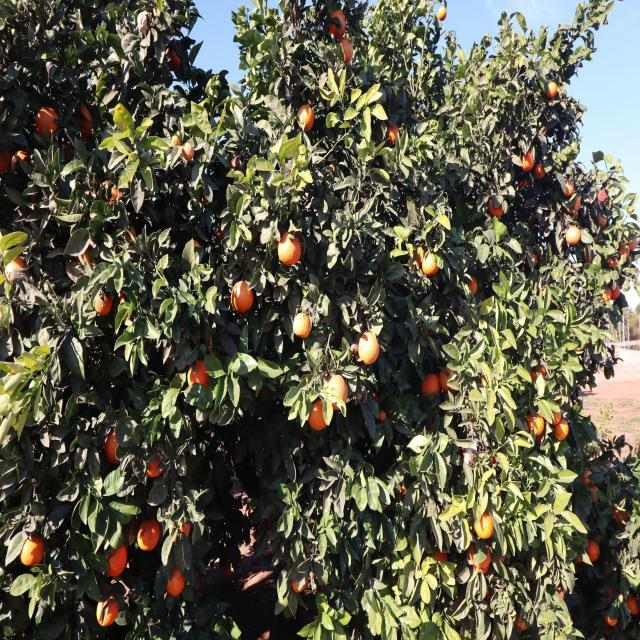Jeruk Sudah Matang: (101, 536, 130, 581), (102, 427, 132, 470), (276, 230, 305, 270), (183, 354, 210, 396), (323, 370, 350, 412), (136, 515, 163, 554), (359, 327, 384, 369), (93, 591, 121, 628), (18, 533, 48, 566), (32, 102, 62, 134), (162, 563, 190, 597), (466, 540, 491, 578), (232, 279, 258, 315), (302, 396, 328, 432), (4, 248, 27, 288), (440, 363, 470, 392), (288, 562, 310, 600), (476, 505, 498, 542), (143, 449, 168, 480), (76, 104, 97, 139), (330, 6, 350, 42), (338, 34, 358, 70), (181, 232, 205, 262), (296, 103, 319, 134), (172, 508, 193, 541), (12, 148, 33, 180), (165, 41, 188, 69), (294, 309, 314, 341), (94, 286, 112, 320), (586, 534, 605, 566), (422, 368, 442, 398), (68, 248, 99, 267), (422, 252, 442, 280), (528, 414, 548, 442), (510, 604, 532, 629), (488, 190, 506, 220), (544, 398, 562, 428), (551, 578, 570, 606), (616, 498, 635, 526), (530, 360, 551, 384), (0, 144, 15, 177), (604, 606, 623, 632), (551, 414, 570, 440), (407, 243, 425, 269), (625, 584, 640, 615), (116, 294, 137, 316), (103, 175, 121, 200), (433, 544, 449, 570), (386, 119, 402, 144), (520, 146, 536, 170), (620, 228, 636, 251), (564, 223, 581, 244), (493, 547, 509, 569), (567, 192, 581, 217), (582, 459, 594, 487), (182, 142, 195, 166), (397, 472, 410, 496), (168, 130, 182, 151), (617, 242, 630, 264), (597, 184, 611, 204), (588, 482, 600, 505), (125, 226, 138, 246), (610, 281, 622, 302), (546, 78, 558, 99), (573, 550, 584, 572), (466, 274, 478, 294), (607, 254, 622, 270), (535, 162, 547, 182), (564, 176, 576, 196), (600, 286, 612, 304), (216, 222, 226, 242), (582, 248, 592, 266), (597, 210, 608, 226), (530, 248, 538, 268), (518, 175, 528, 188), (381, 407, 389, 422)
